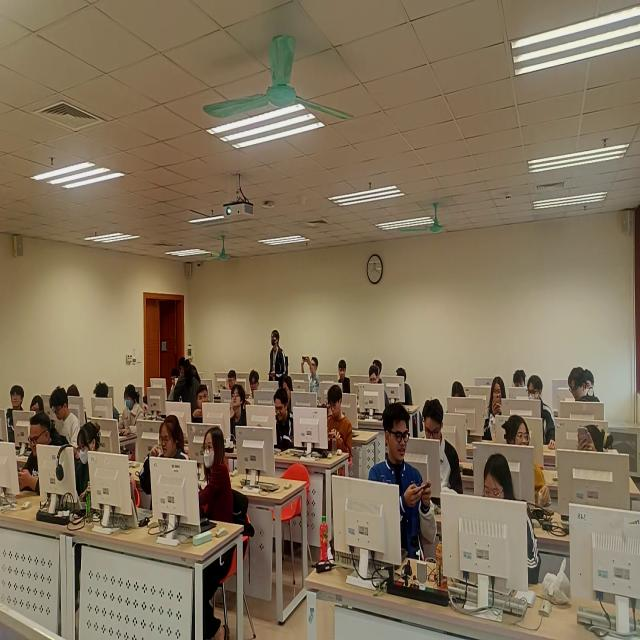raise_head: (201, 427, 235, 523), (7, 386, 26, 444), (231, 386, 248, 443), (248, 370, 261, 406), (338, 360, 351, 393)
stand: (174, 356, 203, 402), (269, 330, 289, 382)
using_computer: (481, 454, 541, 589), (140, 415, 192, 512), (421, 400, 464, 508), (74, 423, 102, 504), (528, 374, 556, 451), (50, 387, 81, 452), (118, 384, 145, 440), (274, 388, 295, 452), (94, 383, 121, 427), (369, 366, 390, 413), (396, 368, 413, 408), (168, 368, 182, 401), (31, 396, 45, 419), (284, 376, 294, 408), (450, 382, 468, 399), (514, 369, 528, 389), (584, 370, 595, 392), (227, 370, 238, 391)
using_phone: (19, 412, 59, 497), (325, 385, 353, 462), (484, 376, 507, 441), (578, 425, 614, 454), (301, 356, 322, 403)
